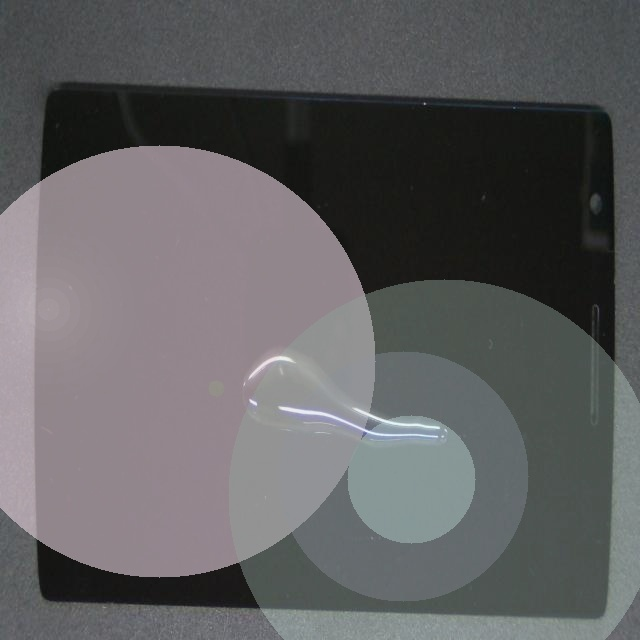oil: (234, 235, 640, 640)
